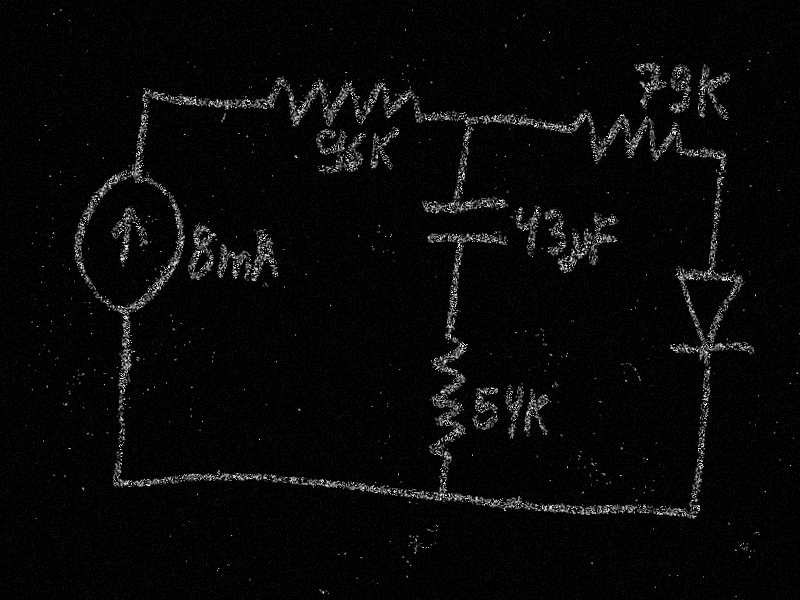3: (539, 207, 570, 259)
4: (511, 201, 542, 261), (501, 380, 525, 442)
5: (470, 384, 501, 433)
6: (344, 128, 367, 176)
7: (629, 58, 669, 111)
8: (185, 221, 218, 283)
9: (312, 127, 347, 178), (665, 63, 694, 116)
A: (250, 228, 281, 286)
F: (589, 211, 620, 267)
k: (694, 62, 734, 123), (523, 387, 552, 439), (369, 125, 399, 174)
m: (214, 243, 253, 284)
u: (565, 227, 591, 273)
